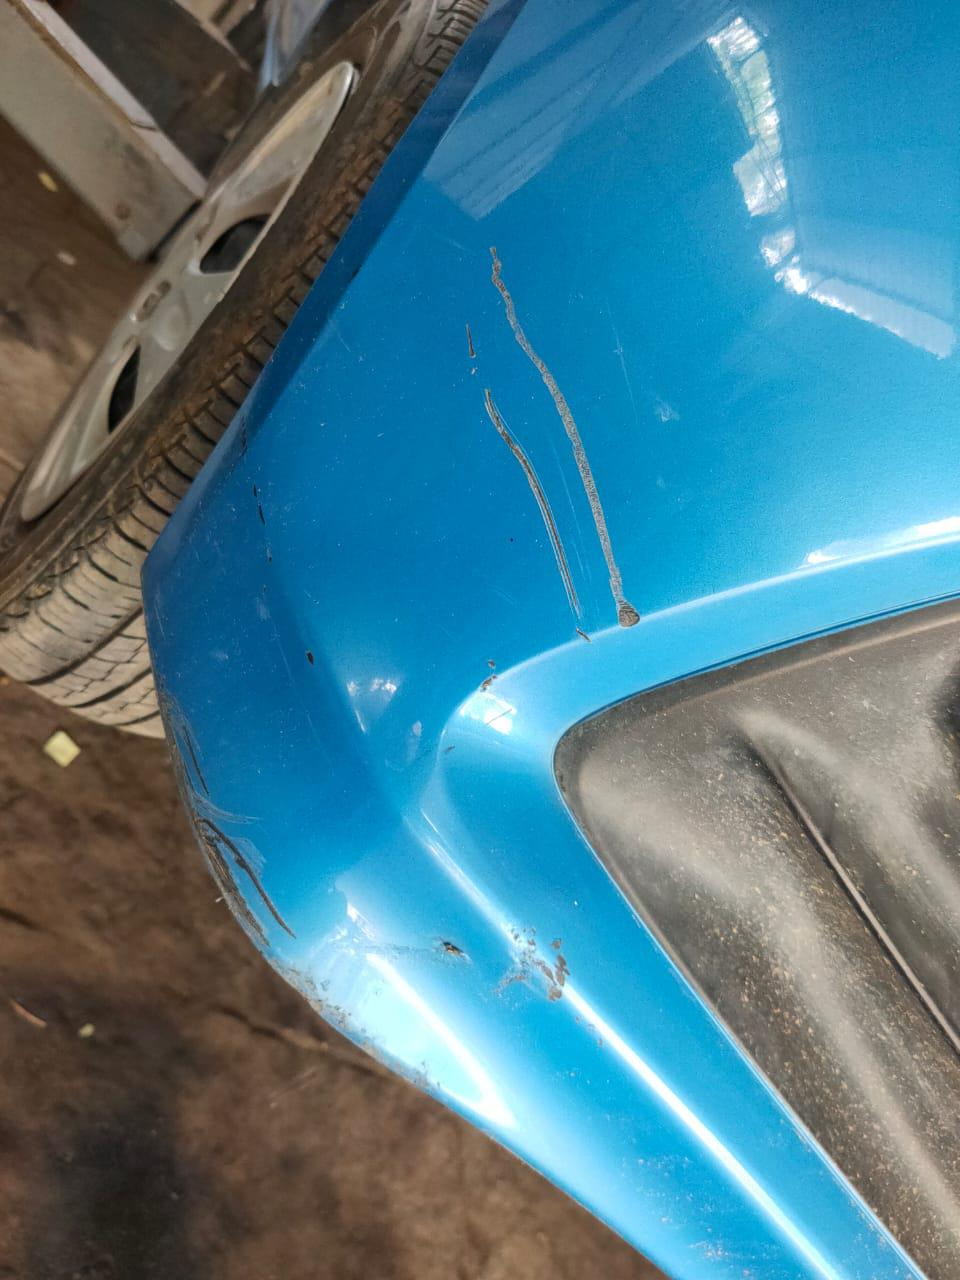front-bumper-dent: (111, 176, 956, 1279)
